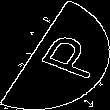P_NW: (15, 27, 95, 83)
